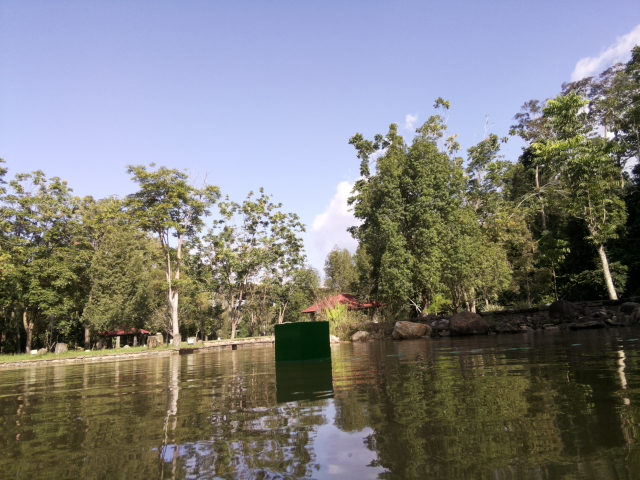obstacle: (451, 348, 514, 447)
